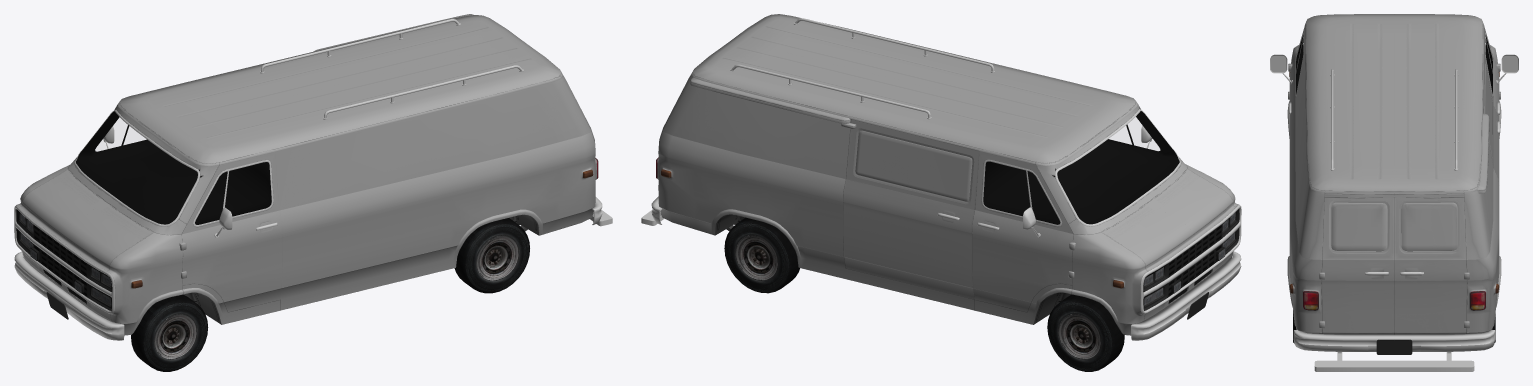
The model's file is van.gltf.
3 views of the same model, side by side, from view 1: azimuth 30°, elevation 25°; view 2: azimuth 150°, elevation 25°; view 3: azimuth 270°, elevation 25° (orthographic). The views are drawn at different scales.
Parts seen in each view (by area): view 1: body_chvan_body_0, void_void_0, chrome_chvan_chrome_0, wheel_01_Material #0_0, wheel_02_wheels_0, lights_chvan_body_0, bottom_ucb_bottom3_0; view 2: body_chvan_body_0, panel_door_chvan_body_0, void_void_0, chrome_chvan_chrome_0, wheel_04_wheels_0, wheel_03_wheels_0, lights_chvan_body_0, bottom_ucb_bottom3_0; view 3: body_chvan_body_0, chrome_chvan_chrome_0, panel_door_chvan_body_0, lights_chvan_body_0, void_void_0.
Boxes of the visible parts, bbox=[...] form: body_chvan_body_0: bbox=[16, 14, 596, 335]; void_void_0: bbox=[76, 111, 271, 224]; chrome_chvan_chrome_0: bbox=[14, 19, 612, 340]; wheel_01_Material #0_0: bbox=[131, 294, 208, 371]; wheel_02_wheels_0: bbox=[454, 218, 529, 293]; lights_chvan_body_0: bbox=[20, 158, 598, 305]; bottom_ucb_bottom3_0: bbox=[183, 215, 538, 324]; body_chvan_body_0: bbox=[657, 14, 1239, 335]; panel_door_chvan_body_0: bbox=[843, 119, 979, 299]; void_void_0: bbox=[983, 111, 1179, 224]; chrome_chvan_chrome_0: bbox=[641, 18, 1241, 340]; wheel_04_wheels_0: bbox=[1047, 294, 1124, 371]; wheel_03_wheels_0: bbox=[724, 217, 799, 293]; lights_chvan_body_0: bbox=[656, 157, 1235, 305]; bottom_ucb_bottom3_0: bbox=[715, 214, 1071, 324]; body_chvan_body_0: bbox=[1287, 14, 1501, 354]; chrome_chvan_chrome_0: bbox=[1270, 32, 1518, 371]; panel_door_chvan_body_0: bbox=[1483, 52, 1499, 185]; lights_chvan_body_0: bbox=[1289, 72, 1499, 310]; void_void_0: bbox=[1296, 35, 1492, 93].
Bounding box in the file's own units: 208 × 78.7 × 88.31.
7 materials, 4 textured.
